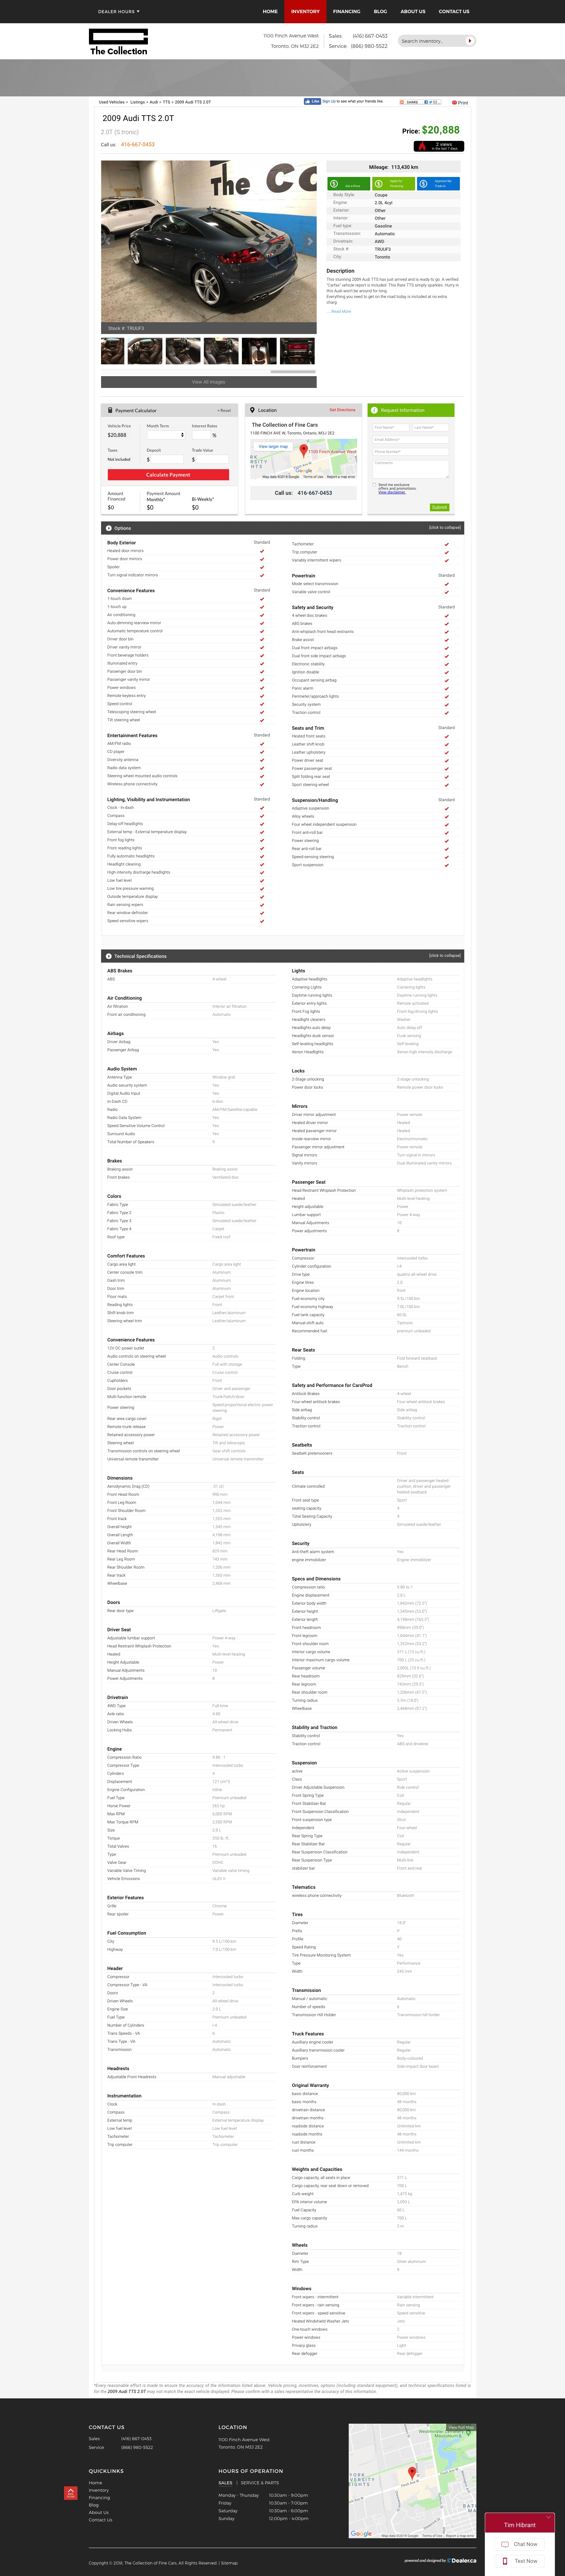car: (302, 235, 317, 250)
